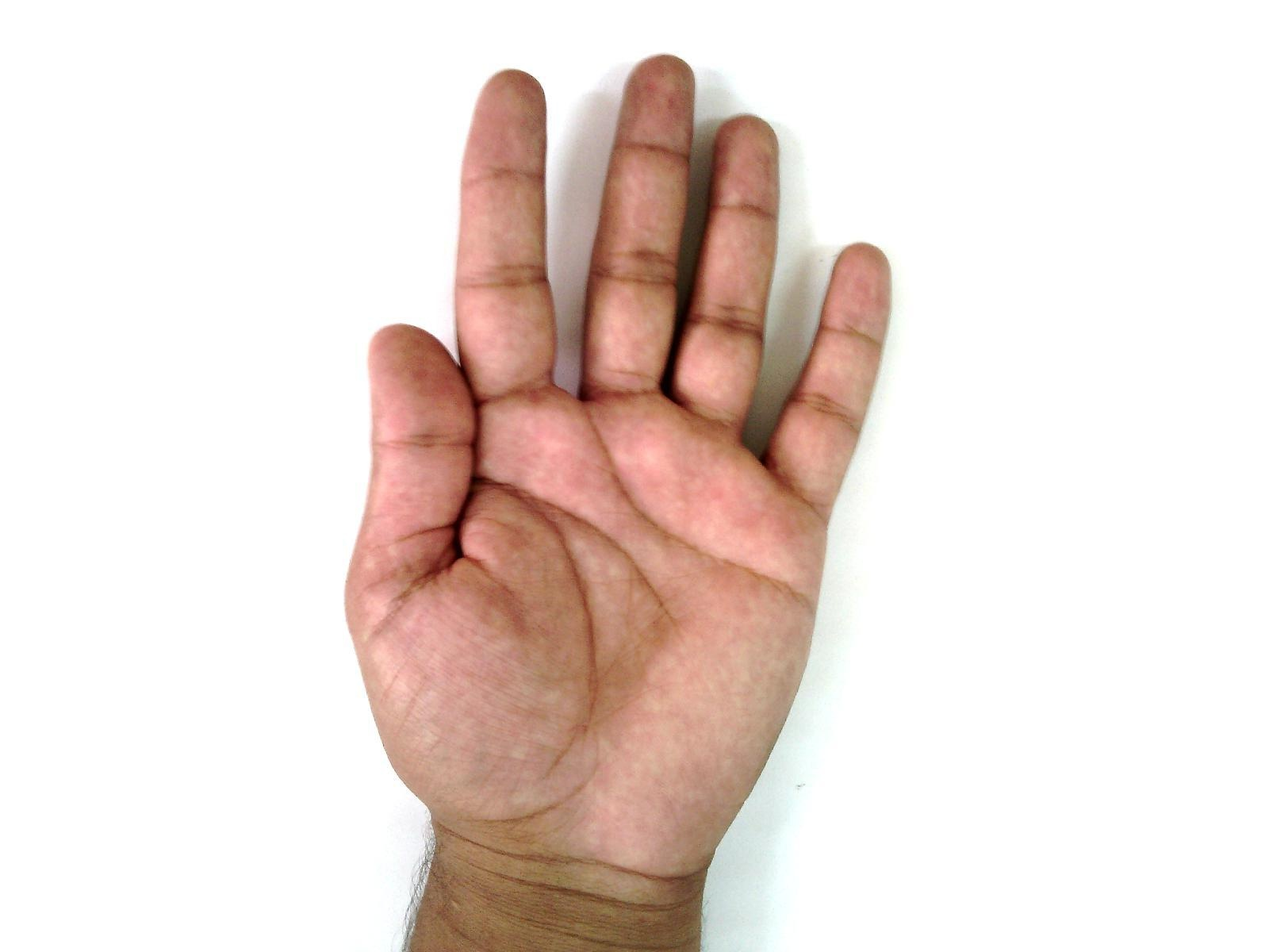open_palm: (342, 54, 896, 881)
